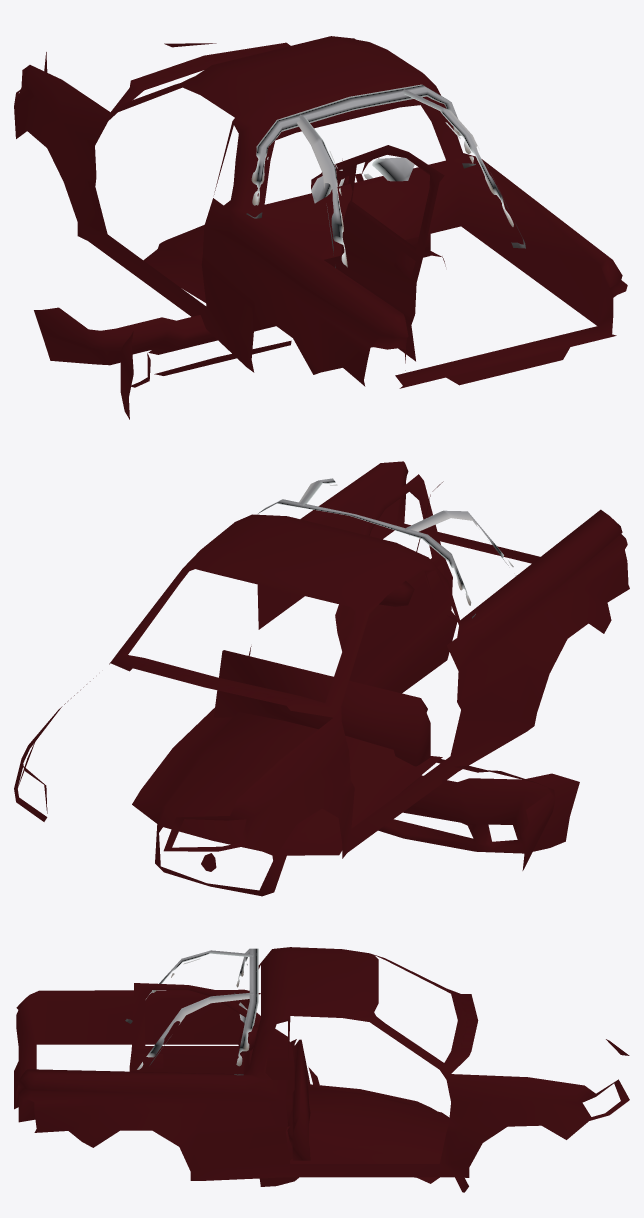
Rendered from car-HEVY_Car1.glb.
3 renders of one model, top to bottom at view 1: azimuth 30°, elevation 25°; view 2: azimuth 150°, elevation 25°; view 3: azimuth 270°, elevation 25°, orthographic. The views are drawn at different scales.
Parts seen in each view (by area): view 1: HEVY_Car1; view 2: HEVY_Car1; view 3: HEVY_Car1.
Part boxes in pixels (x1,y1,x2,y2): HEVY_Car1: [14, 36, 627, 419]; HEVY_Car1: [14, 461, 629, 896]; HEVY_Car1: [14, 947, 629, 1192].
Size of the model in its own units: 2.76 by 1.83 by 4.98.
19 materials, 19 textured.
